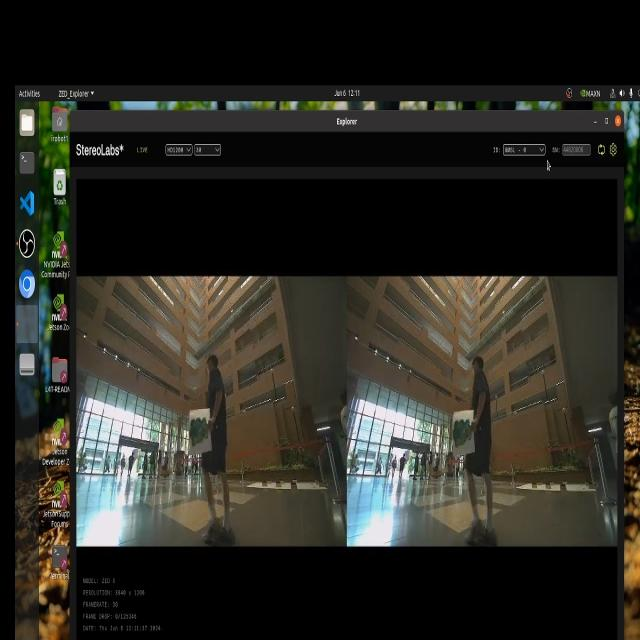green: (444, 414, 486, 447), (191, 412, 213, 454)
